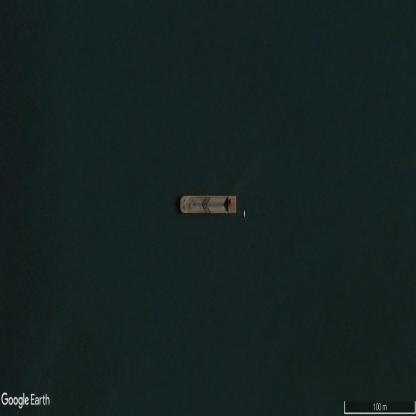ship: (180, 195, 236, 214)
